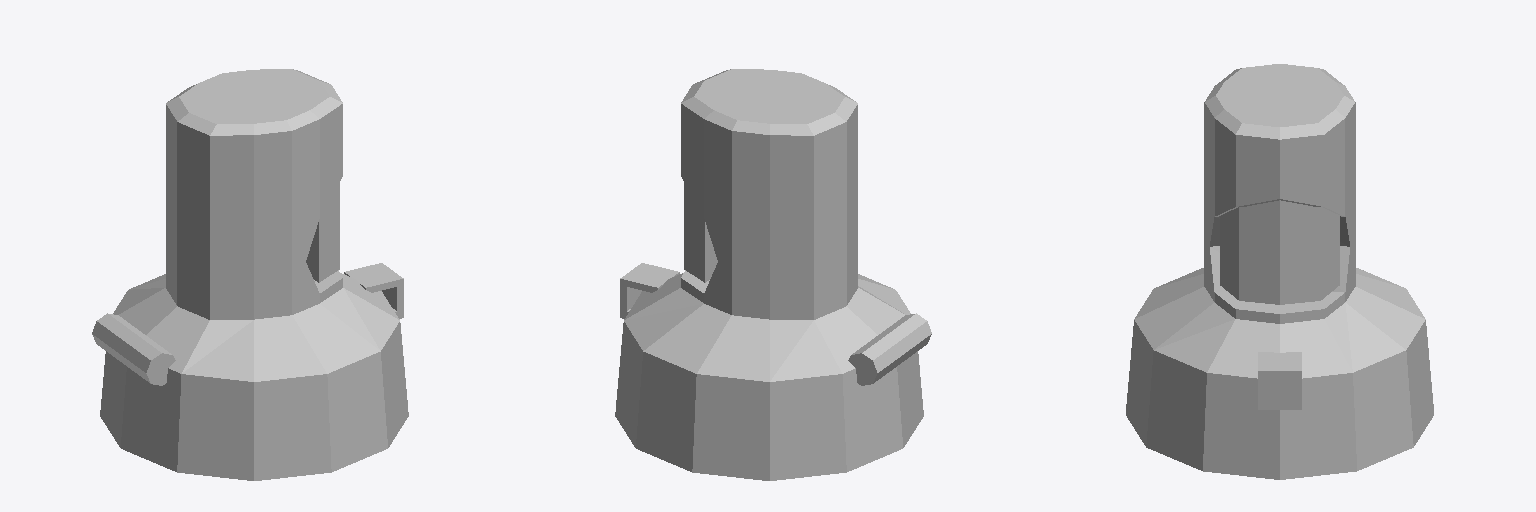
File: mrfusion.obj
The picture shows the model from 3 angles: view 1: azimuth 30°, elevation 25°; view 2: azimuth 150°, elevation 25°; view 3: azimuth 270°, elevation 25°; orthographic projection.
Parts seen in each view (by area): view 1: mrfusion_Cylinder.001; view 2: mrfusion_Cylinder.001; view 3: mrfusion_Cylinder.001.
Part boxes in pixels (x1,y1,x2,y2): mrfusion_Cylinder.001: (92,69,408,480); mrfusion_Cylinder.001: (615,69,931,480); mrfusion_Cylinder.001: (1126,64,1433,479).
Size of the model in its own units: 0.87 by 0.97 by 0.8505.